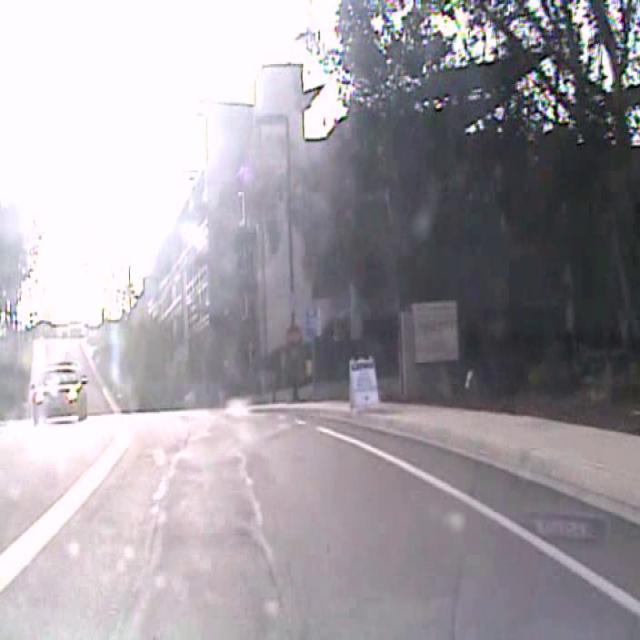stop_sign: (284, 324, 302, 349)
